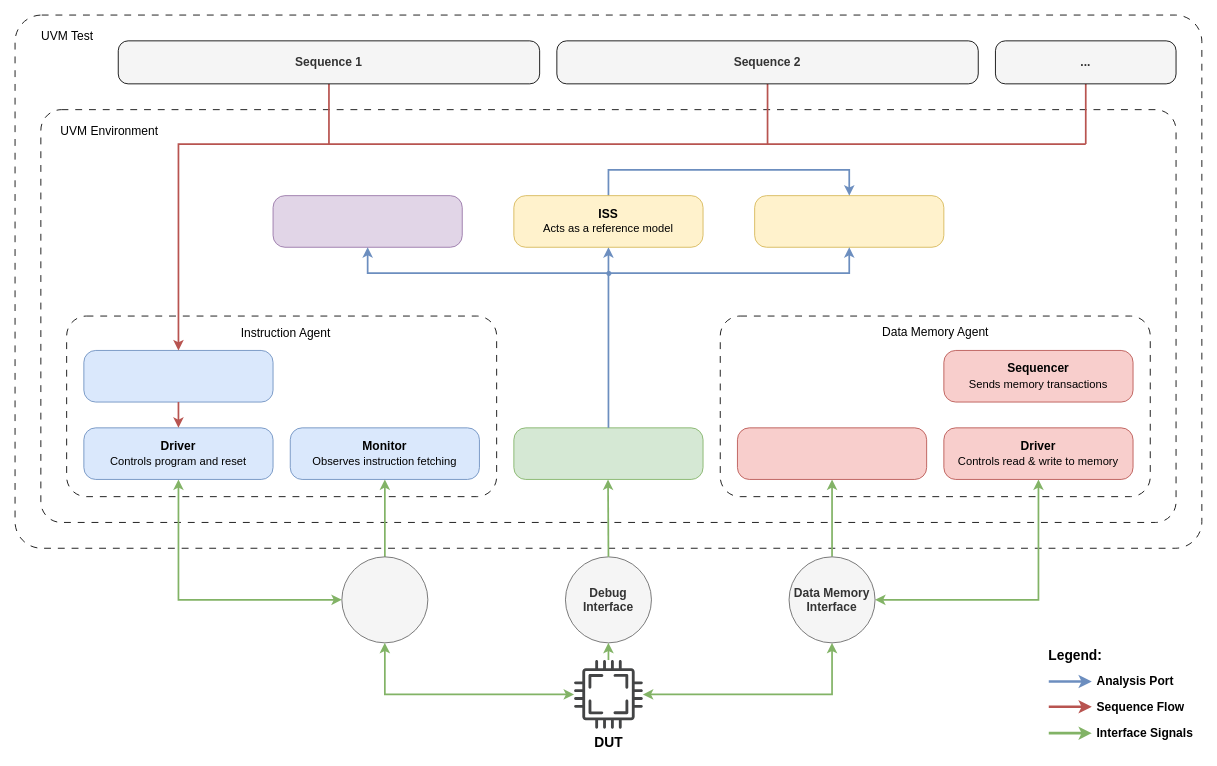
This 1217x766 diagram has some shape labels left out. The centre of each missing label's shape, as x and y in pixels:
Coverage Collects coverage information: pixel 367 221
Debug Monitor Observes DUT debug ports: pixel 608 453
Instruction Interface: pixel 384 599
Monitor Observes memory interface: pixel 832 453
Scoreboard Compares DUT to expected output: pixel 849 221
Sequencer Sends instruction sequences: pixel 178 376
